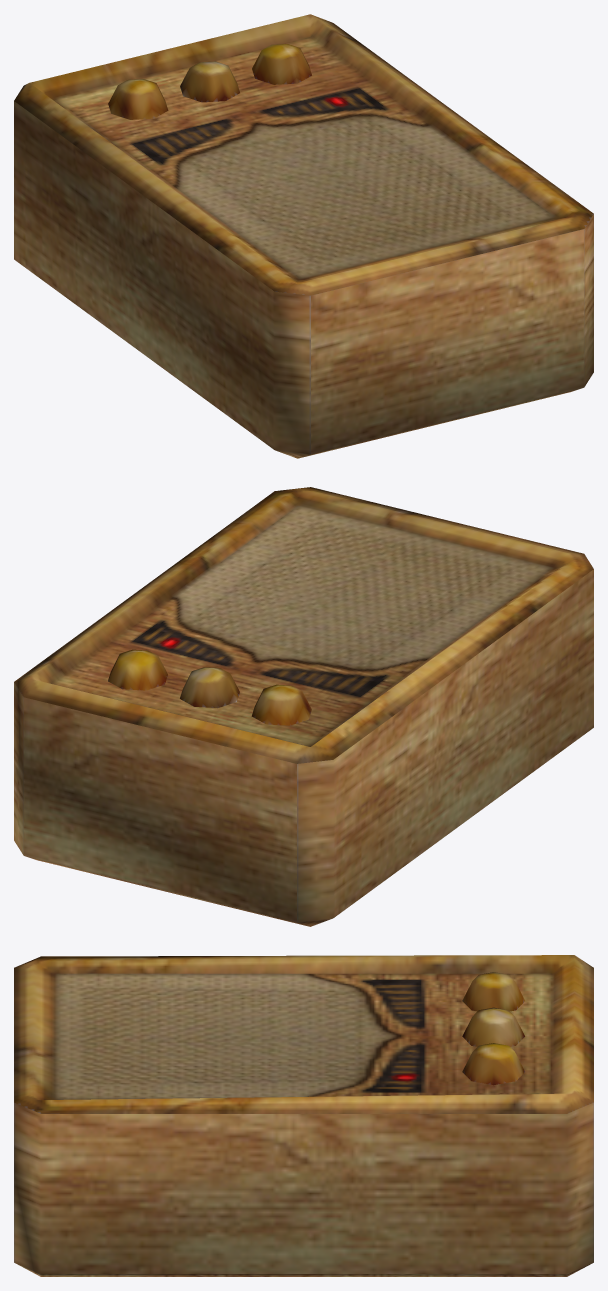
The model's file is radio.obj.
3 renders of one model, top to bottom at view 1: azimuth 30°, elevation 25°; view 2: azimuth 150°, elevation 25°; view 3: azimuth 270°, elevation 25°, orthographic.
Visible parts, largest first — view 1: radio; view 2: radio; view 3: radio.
Part boxes in pixels (x1=…): radio: x1=14, y1=14, x2=593, y2=458; radio: x1=14, y1=487, x2=593, y2=926; radio: x1=14, y1=955, x2=593, y2=1276.
Bounding box in the file's own units: 1.44 × 0.8505 × 2.24.
